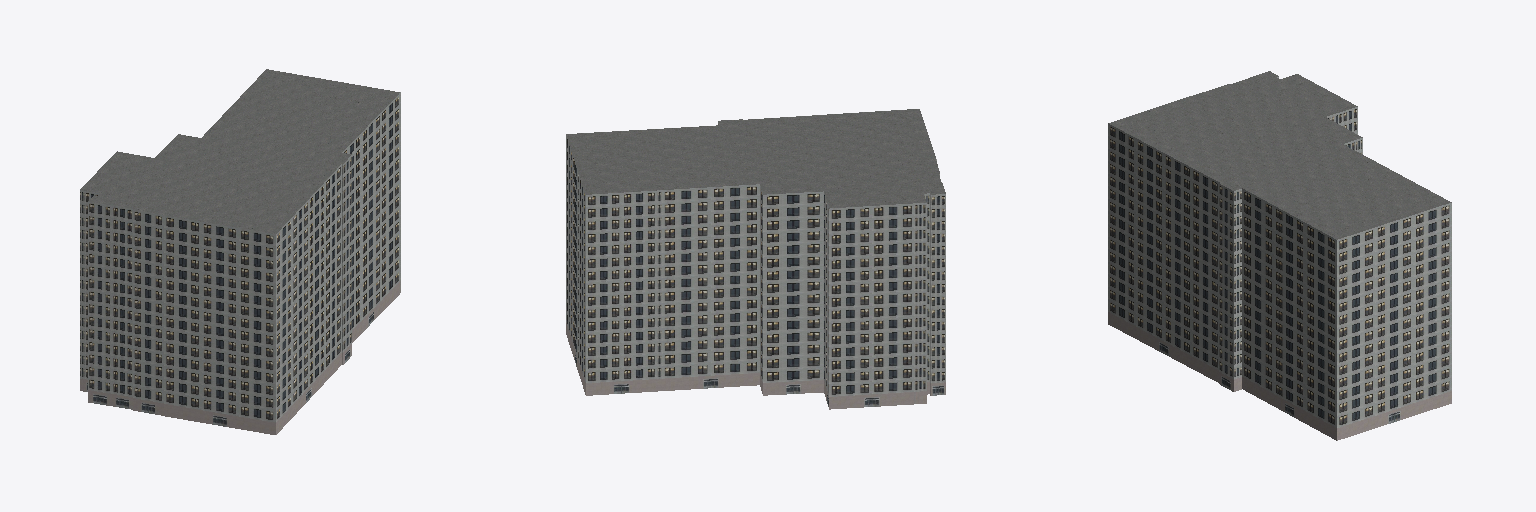
3 renders of one model, left to right at view 1: azimuth 30°, elevation 25°; view 2: azimuth 150°, elevation 25°; view 3: azimuth 270°, elevation 25°, orthographic.
Parts seen in each view (by area): view 1: BuildingMaster_[number redacted]_0, BuildingMaster_[number redacted]_1; view 2: BuildingMaster_[number redacted]_0, BuildingMaster_[number redacted]_1; view 3: BuildingMaster_[number redacted]_0, BuildingMaster_[number redacted]_1.
Part boxes in pixels (x1,y1,x2,y2): BuildingMaster_[number redacted]_0: (80, 92, 400, 434); BuildingMaster_[number redacted]_1: (80, 69, 399, 233); BuildingMaster_[number redacted]_0: (566, 122, 945, 409); BuildingMaster_[number redacted]_1: (567, 109, 945, 208); BuildingMaster_[number redacted]_0: (1108, 77, 1451, 440); BuildingMaster_[number redacted]_1: (1109, 71, 1451, 239).
Size of the model in its own units: 101 by 56 by 86.73.
Materials: 2 (2 with a texture image).